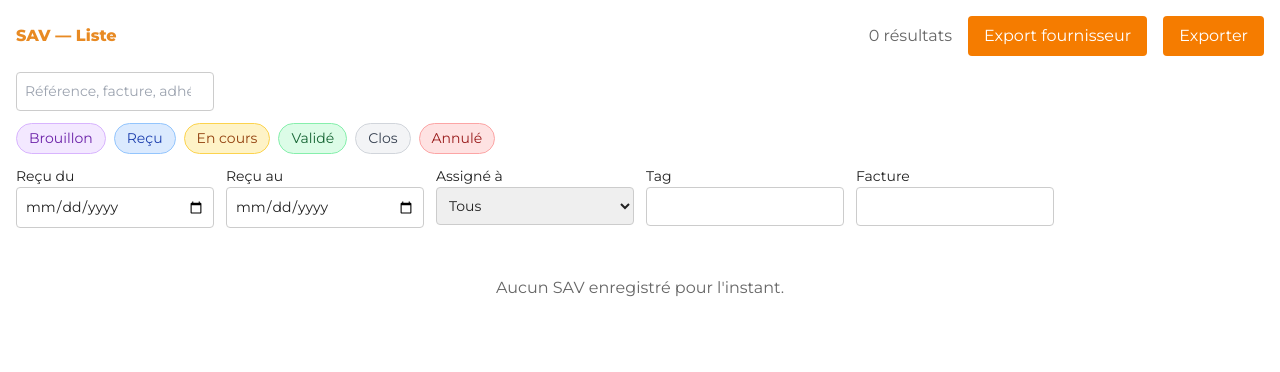
Test case: SavListView — Export CSV/XLSX (Story 5.4 AC #11) › TC-06: erreur 500 → toast error avec message
Click the button with test id "btn-export-csv". click: [1214, 36]
box: [1163, 16, 1264, 56]
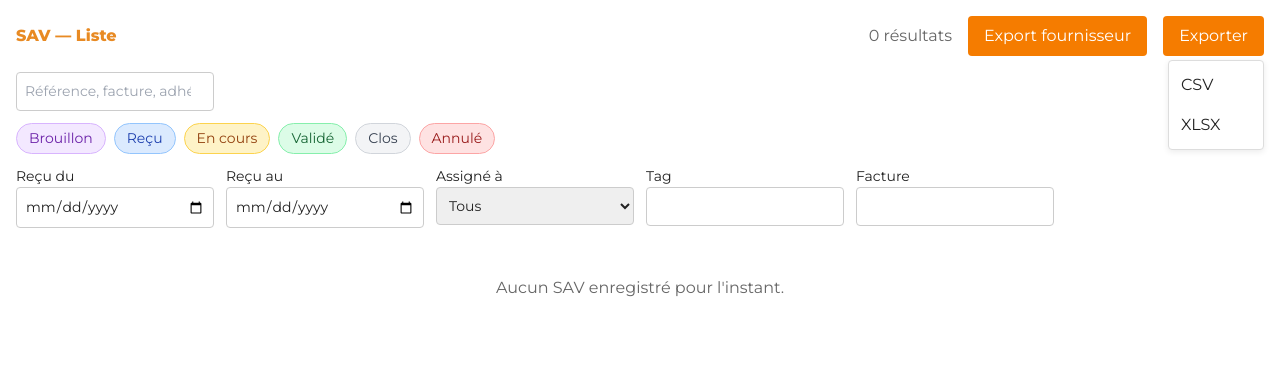
Click the menu item with test id "btn-export-csv-format". click: [1216, 85]
box: [1169, 65, 1263, 105]
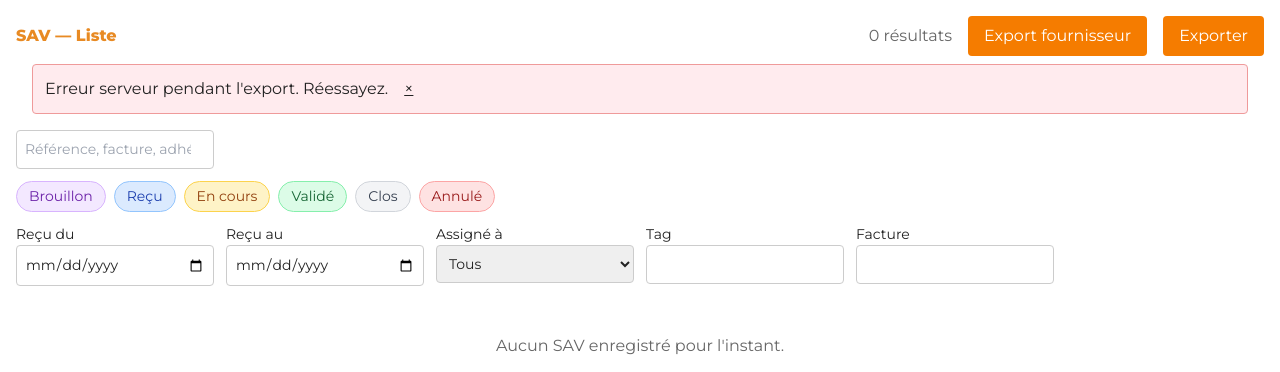
expect the message "Erreur serveur pendant l'export. Réessayez. ×" is shown: met, box [32, 64, 1248, 114]
